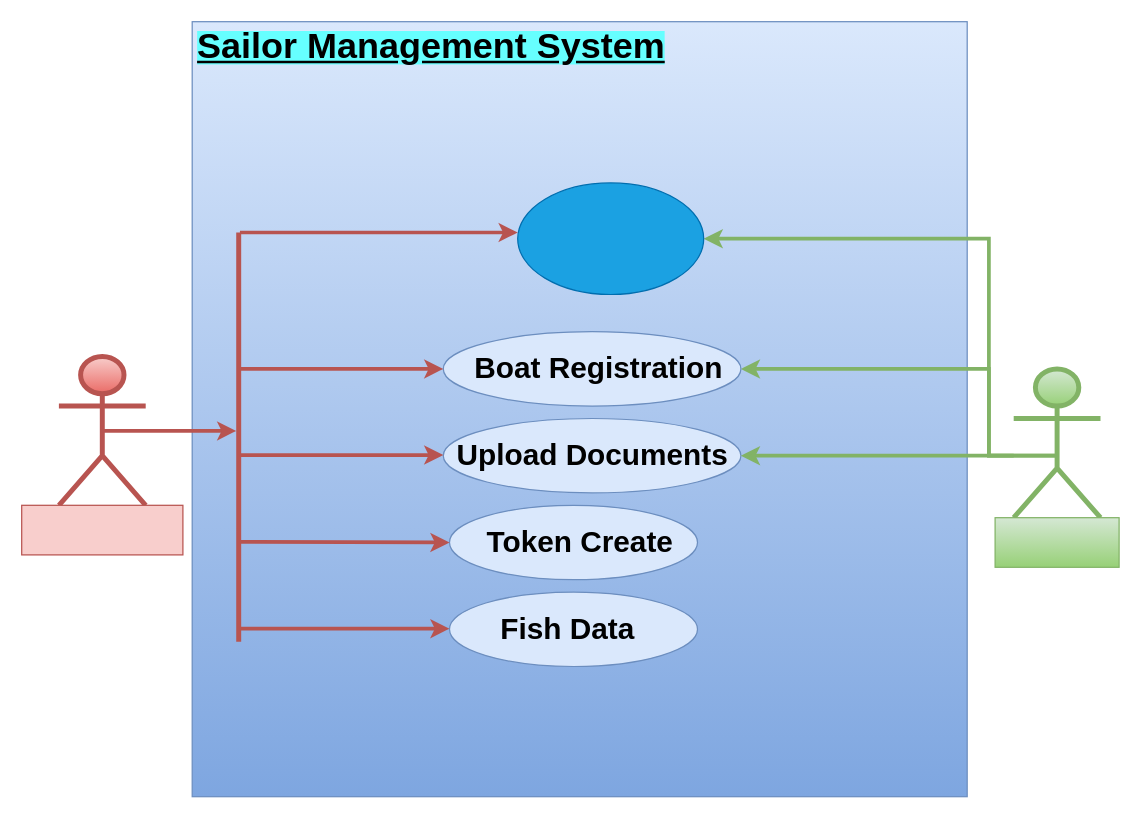
Some shapes in this 1141 by 818 pixel diagram are drawn without their labels. The shapes that lost their labels are listed below. From the top down, each one's centre as x and y in pixels, then its label:
At (610,238): "Register Login".
At (101,529): "Fisherman".
At (1056,541): "Admin".
